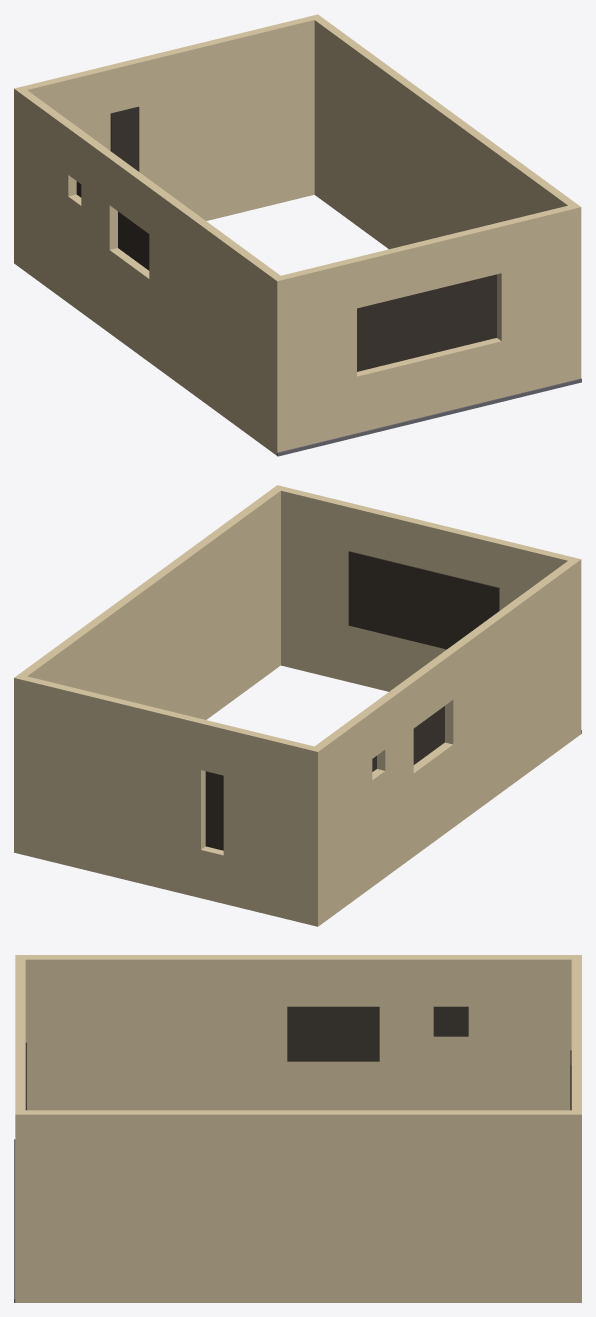
File: SM_Floor_NarrowUpperWindowEndL_Yellow_546_Back_01.gltf
The picture shows the model from 3 angles, top to bottom: view 1: azimuth 30°, elevation 25°; view 2: azimuth 150°, elevation 25°; view 3: azimuth 270°, elevation 25°; orthographic projection. The views are drawn at different scales.
Visible parts, largest first — view 1: SM_Floor_NarrowUpperWindowEndL_Yellow_546_Back_01; view 2: SM_Floor_NarrowUpperWindowEndL_Yellow_546_Back_01; view 3: SM_Floor_NarrowUpperWindowEndL_Yellow_546_Back_01.
Boxes of the visible parts, x1=… form: SM_Floor_NarrowUpperWindowEndL_Yellow_546_Back_01: x1=14, y1=14, x2=581, y2=456; SM_Floor_NarrowUpperWindowEndL_Yellow_546_Back_01: x1=14, y1=485, x2=581, y2=926; SM_Floor_NarrowUpperWindowEndL_Yellow_546_Back_01: x1=14, y1=955, x2=581, y2=1302.
Bounding box in the file's own units: 5.46 × 3 × 8.21.
1 material, 1 textured.
